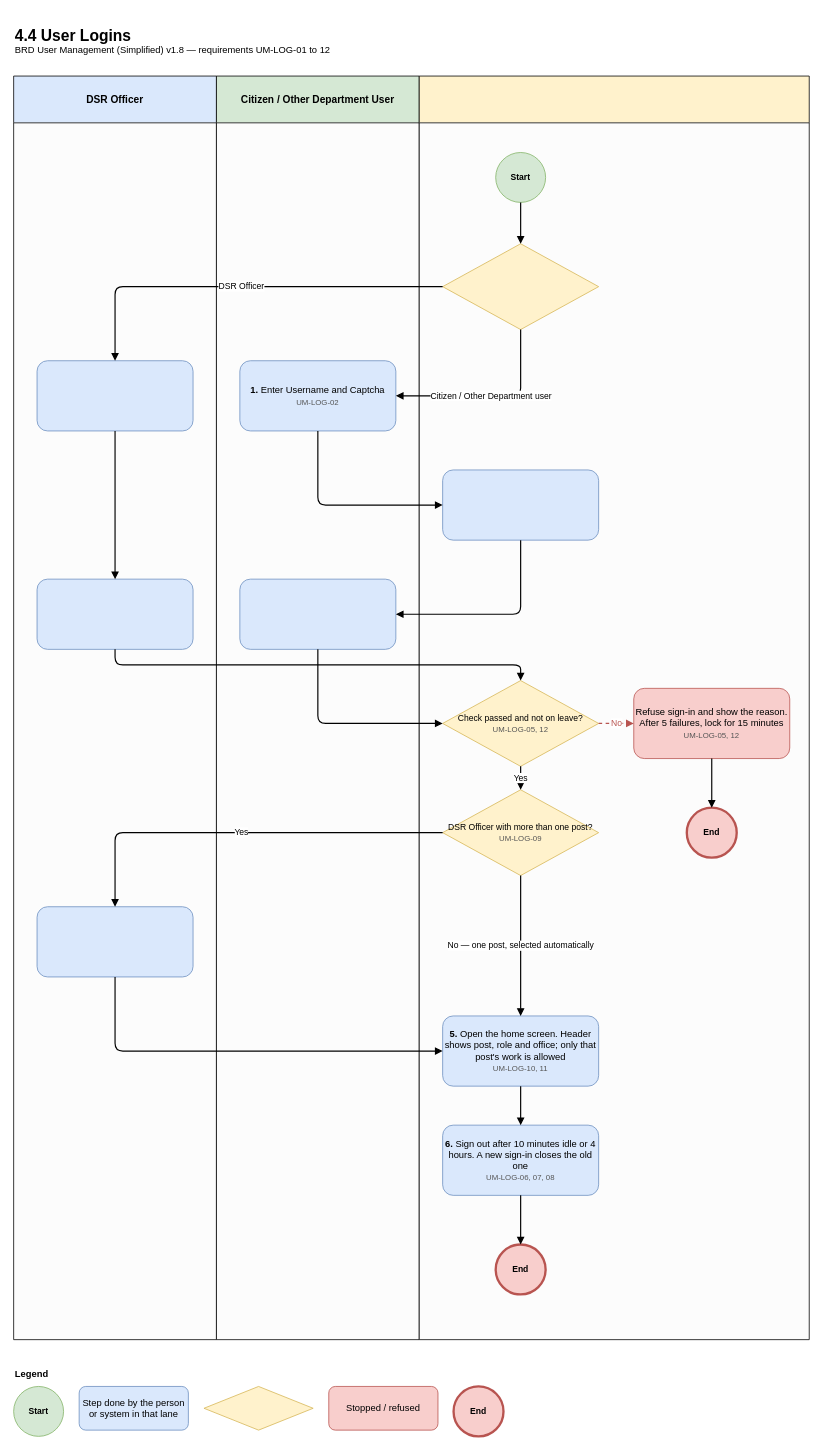
This 823x1451 diagram has some shape labels left out. Each missing label, with the box of its shape:
1. Enter KGID and Captcha UM-LOG-03: (36, 360, 193, 431)
2. Give face or biometric check (no OTP) UM-LOG-03: (36, 578, 193, 649)
2. Send a 6-digit OTP to the registered mobile (valid 5 minutes) UM-LOG-02, 04: (442, 469, 599, 540)
3. Enter the OTP UM-LOG-04: (239, 578, 396, 649)
4. Select one post UM-LOG-09: (36, 906, 193, 977)
Check / choice: (203, 1386, 313, 1430)
Kaveri System: (418, 75, 809, 1340)
Which type of user? (no passwords for anyone) UM-LOG-01: (442, 243, 599, 330)
